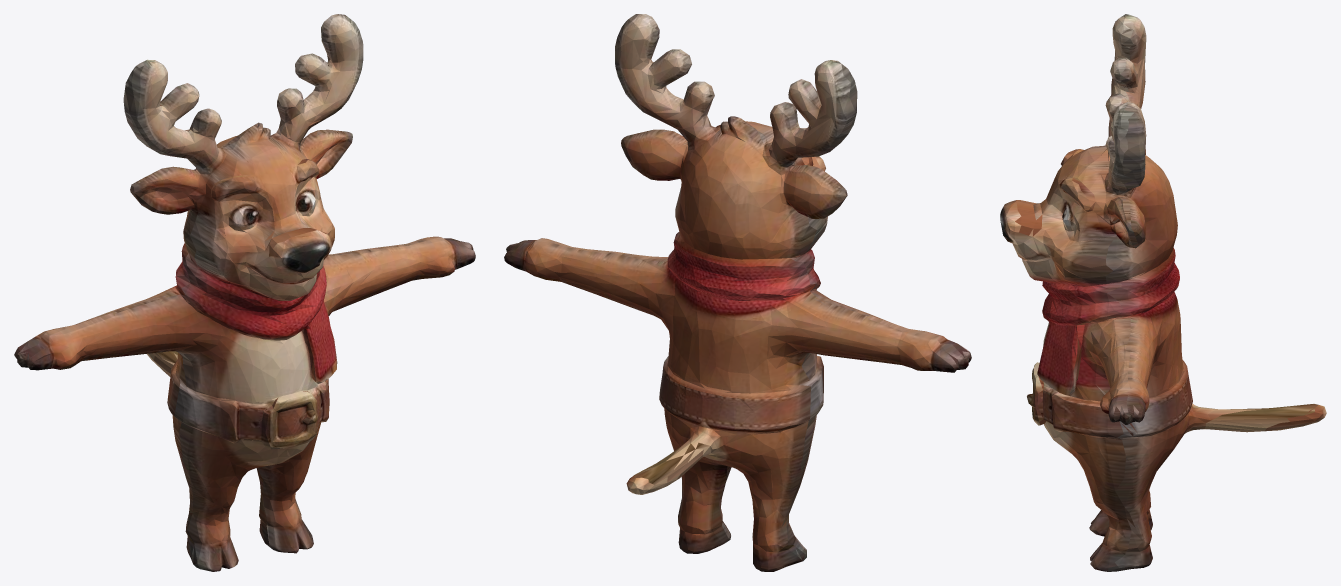
File: v_rudi.glb
3 views of the same model, side by side, from view 1: azimuth 30°, elevation 25°; view 2: azimuth 150°, elevation 25°; view 3: azimuth 270°, elevation 25° (orthographic). The views are drawn at different scales.
Visible parts, largest first — view 1: geometry_0; view 2: geometry_0; view 3: geometry_0.
Boxes of the visible parts, box(x1,y1,x2,y2) form: geometry_0: box(14, 14, 475, 571); geometry_0: box(504, 14, 971, 571); geometry_0: box(1000, 14, 1326, 571).
Bounding box in the file's own units: 0.9357 × 1 × 0.6079.
Materials: 1 (1 with a texture image).
